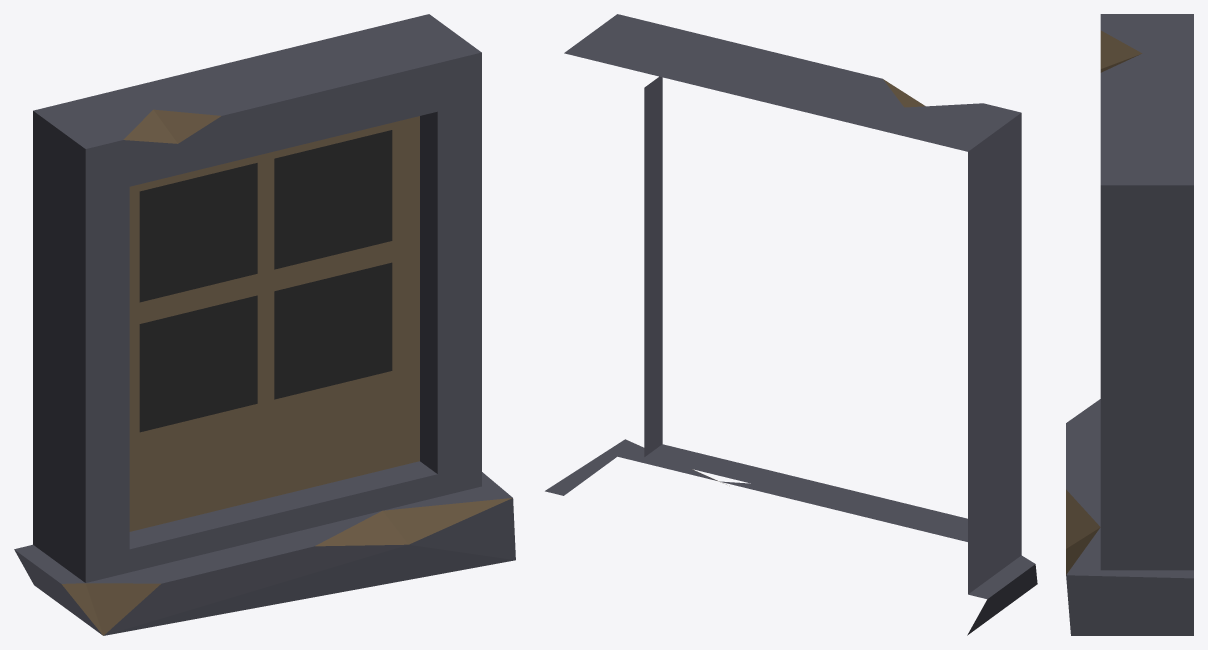
The model's file is SM_Prop_Window_02.glb.
3 renders of one model, left to right at view 1: azimuth 30°, elevation 25°; view 2: azimuth 150°, elevation 25°; view 3: azimuth 270°, elevation 25°, orthographic. The views are drawn at different scales.
Parts seen in each view (by area): view 1: SM_Prop_Window_02; view 2: SM_Prop_Window_02; view 3: SM_Prop_Window_02.
Boxes of the visible parts, x1,y1,x2,y2 form: SM_Prop_Window_02: (14,14,515,635); SM_Prop_Window_02: (545,14,1037,635); SM_Prop_Window_02: (1066,14,1193,635).
Size of the model in its own units: 0.00823 by 0.00905 by 0.00237.
